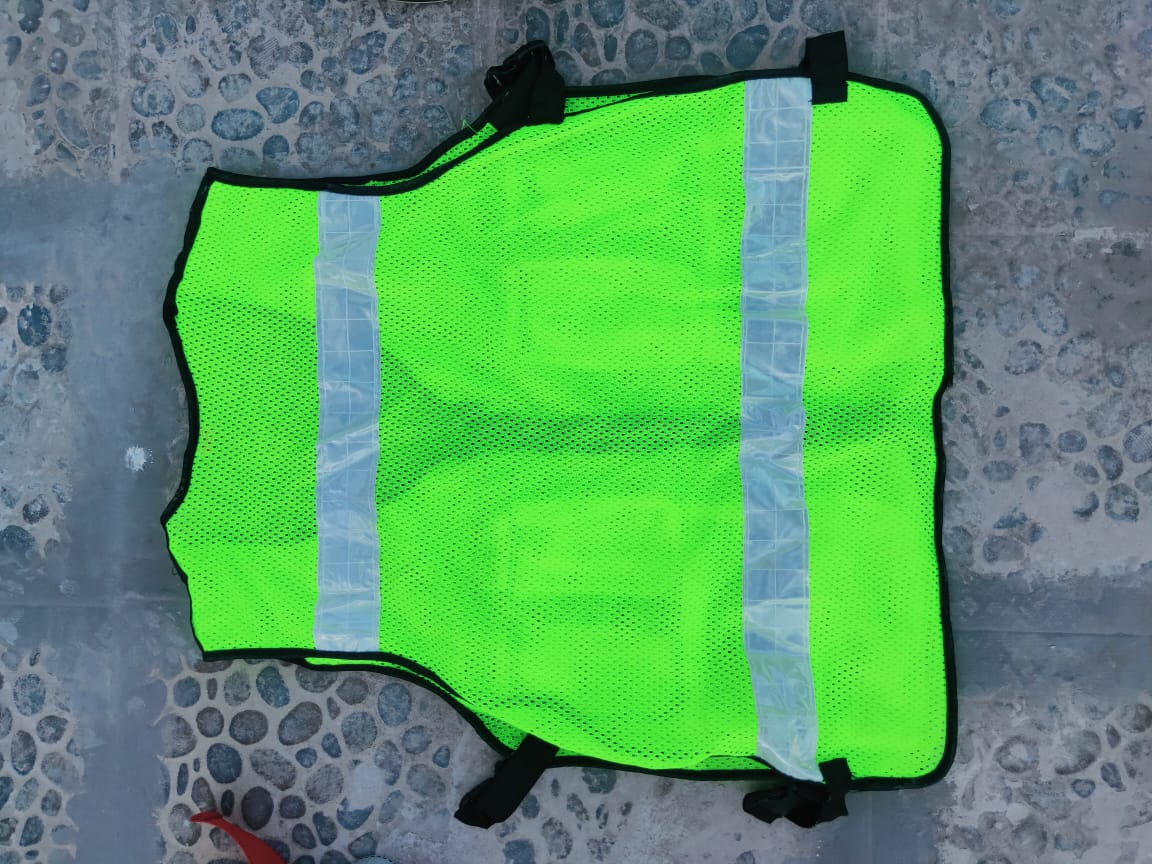ROMPI: (211, 153, 938, 686)
